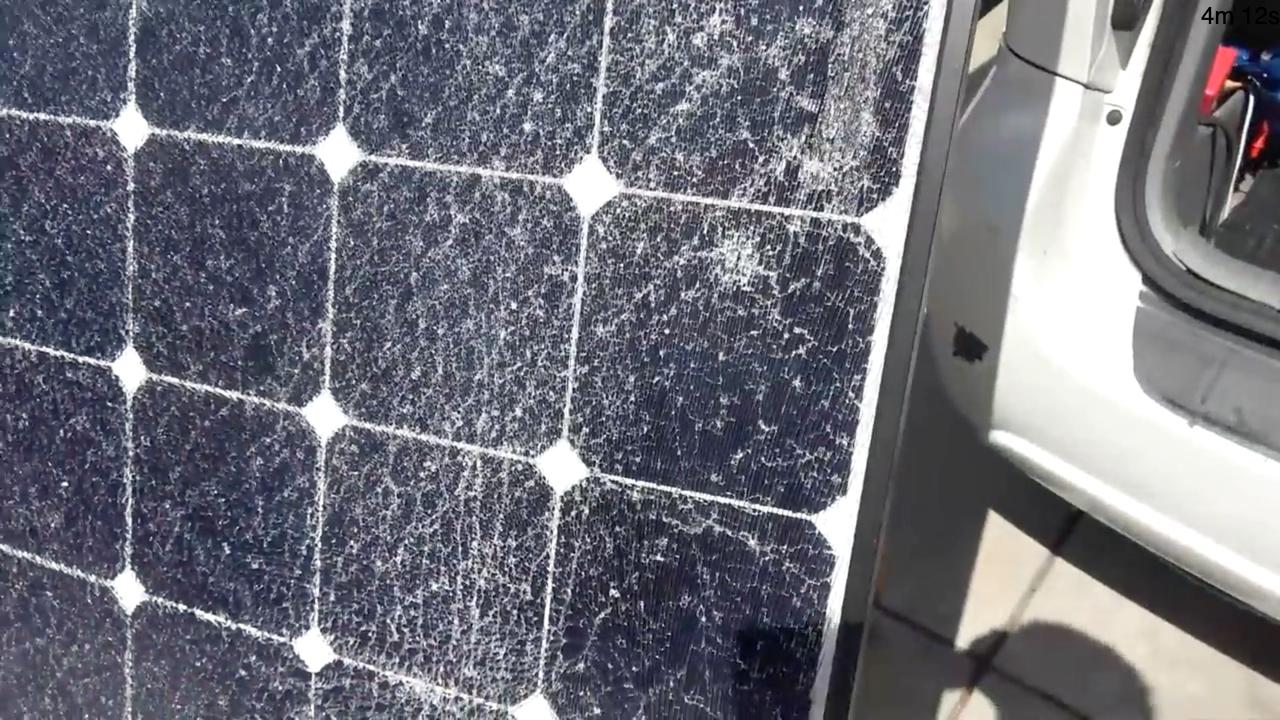Crack: (339, 0, 940, 328), (548, 327, 876, 717), (0, 0, 335, 380), (0, 367, 339, 720), (328, 327, 561, 710)
